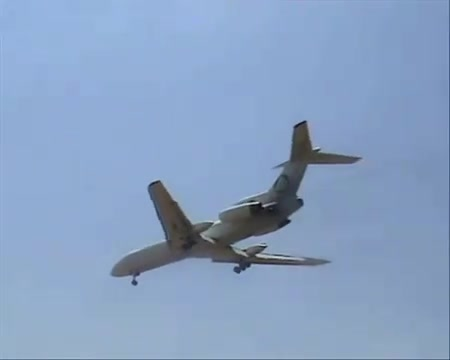aeroplane: (110, 121, 364, 287)
